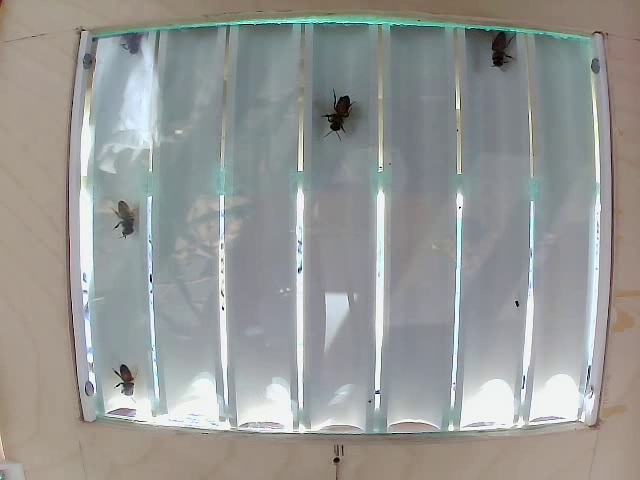bee: (322, 78, 371, 145), (108, 198, 146, 245), (98, 351, 128, 397), (484, 29, 513, 76)
